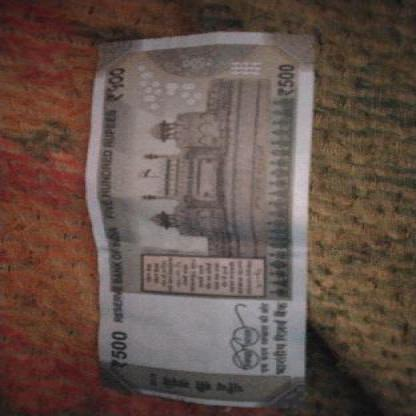New500Back: (90, 40, 310, 402)
